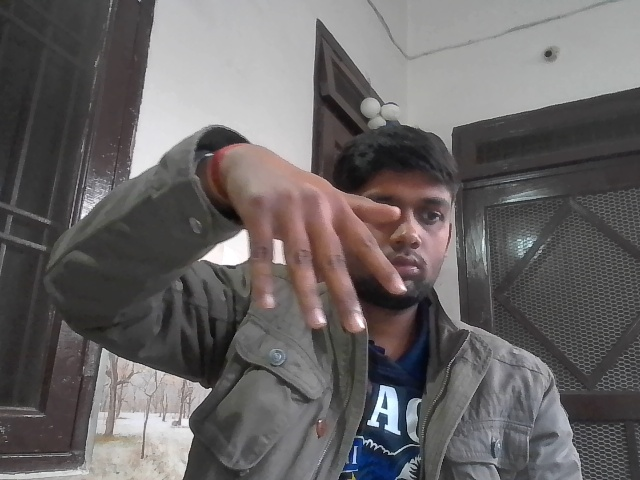HowAreYou: (219, 133, 419, 354)
